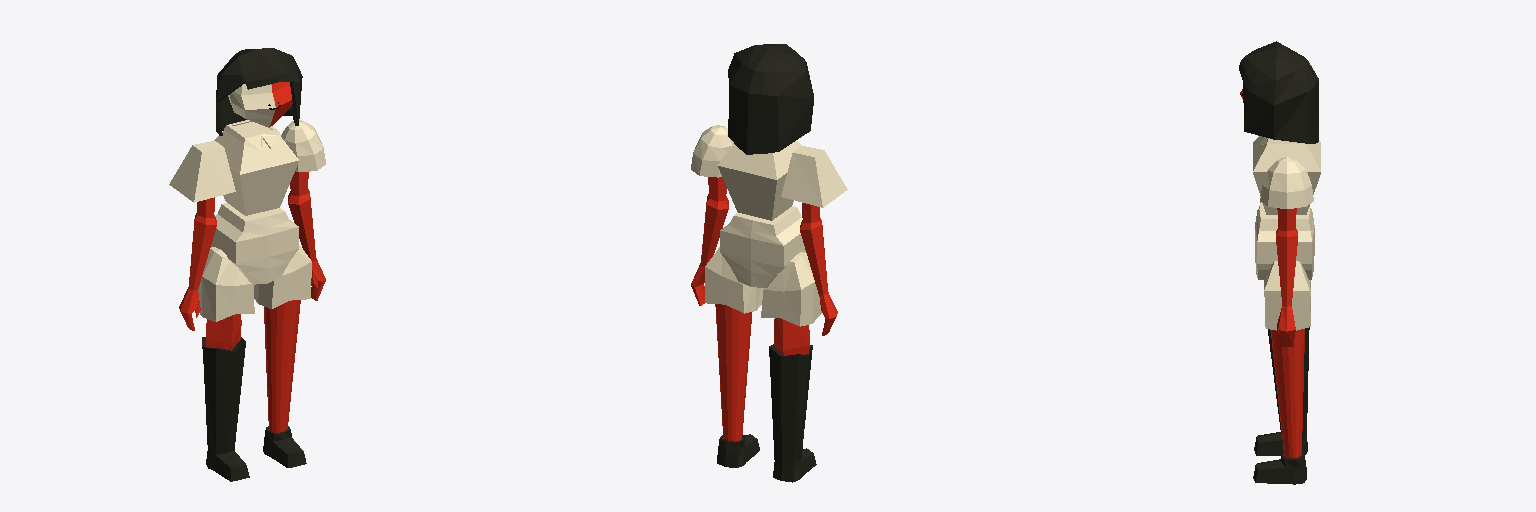
3 views of the same model, side by side, from view 1: azimuth 30°, elevation 25°; view 2: azimuth 150°, elevation 25°; view 3: azimuth 270°, elevation 25° (orthographic).
Visible parts, largest first — view 1: Cube, Cube.002, Cube.003, Cube.004, Cylinder.001, Cube.007, Cylinder.002, Cube.005, Cube.001, Sphere, Cube.006, Cylinder; view 2: Cube.007, Cube.003, Cube.002, Cube.004, Cube, Cylinder.001, Cylinder.002, Cube.005, Sphere, Cylinder, Cube.006; view 3: Cube.007, Cylinder.002, Cube.002, Cylinder.001, Cube, Sphere, Cube.003, Cube.004, Cube.006.
Part boxes in pixels (left/top/right/bottom): Cube: left=214, top=120, right=298, bottom=215; Cube.002: left=211, top=203, right=298, bottom=284; Cube.003: left=198, top=245, right=311, bottom=321; Cube.004: left=202, top=337, right=249, bottom=481; Cylinder.001: left=179, top=171, right=325, bottom=330; Cube.007: left=216, top=48, right=302, bottom=135; Cylinder.002: left=264, top=300, right=300, bottom=432; Cube.005: left=169, top=141, right=235, bottom=202; Cube.001: left=228, top=82, right=292, bottom=127; Sphere: left=281, top=120, right=325, bottom=171; Cube.006: left=263, top=426, right=306, bottom=467; Cylinder: left=206, top=314, right=241, bottom=350; Cube.007: left=728, top=44, right=813, bottom=154; Cube.003: left=705, top=247, right=821, bottom=326; Cube.002: left=720, top=206, right=805, bottom=287; Cube.004: left=769, top=344, right=816, bottom=482; Cube: left=717, top=140, right=801, bottom=220; Cylinder.001: left=691, top=177, right=837, bottom=335; Cylinder.002: left=715, top=304, right=751, bottom=441; Cube.005: left=781, top=146, right=847, bottom=207; Sphere: left=691, top=125, right=733, bottom=177; Cylinder: left=774, top=318, right=809, bottom=355; Cube.006: left=717, top=434, right=759, bottom=467; Cube.007: left=1239, top=41, right=1318, bottom=143; Cylinder.002: left=1271, top=329, right=1304, bottom=458; Cube.002: left=1255, top=202, right=1314, bottom=279; Cylinder.001: left=1276, top=208, right=1297, bottom=346; Cube: left=1253, top=136, right=1320, bottom=214; Sphere: left=1260, top=157, right=1313, bottom=208; Cube.003: left=1264, top=261, right=1310, bottom=330; Cube.004: left=1254, top=327, right=1309, bottom=455; Cube.006: left=1253, top=452, right=1306, bottom=484.
Size of the model in its own units: 0.996 by 2.75 by 0.4954.
Materials: 12 (1 with a texture image).